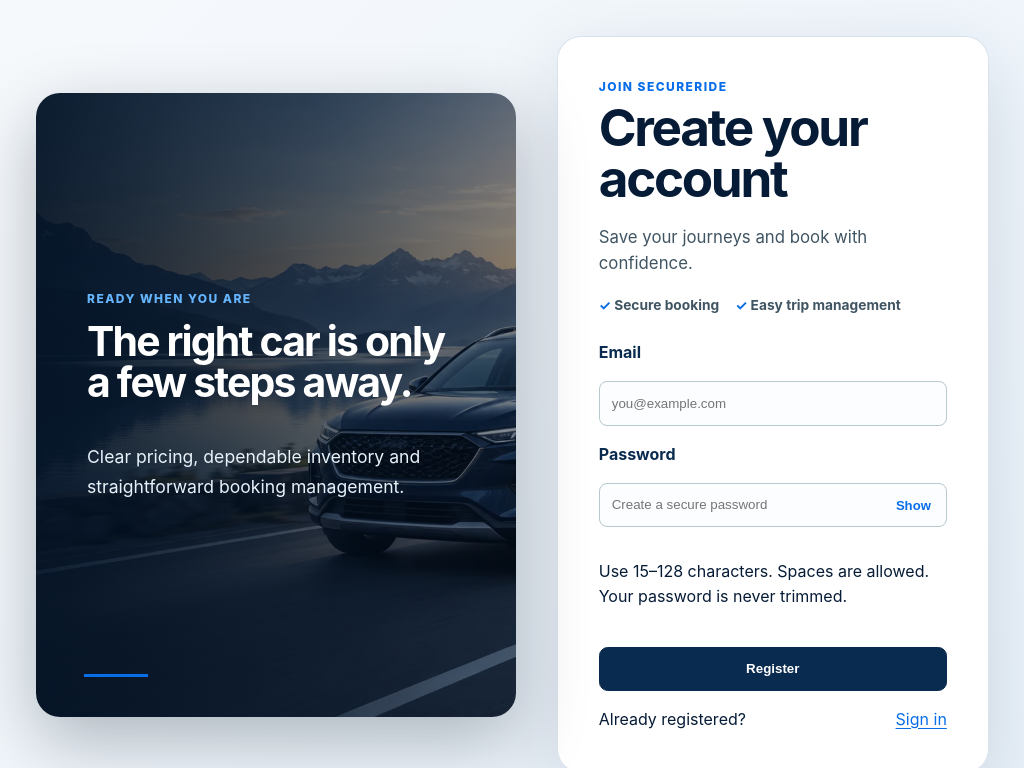
Scenario: minimal authentication pages › rejects short registration passwords accessibly
The image size is (1024, 768).
In the password field labelled "Password": (773, 505) left=599, top=482, right=947, bottom=527, type "short"
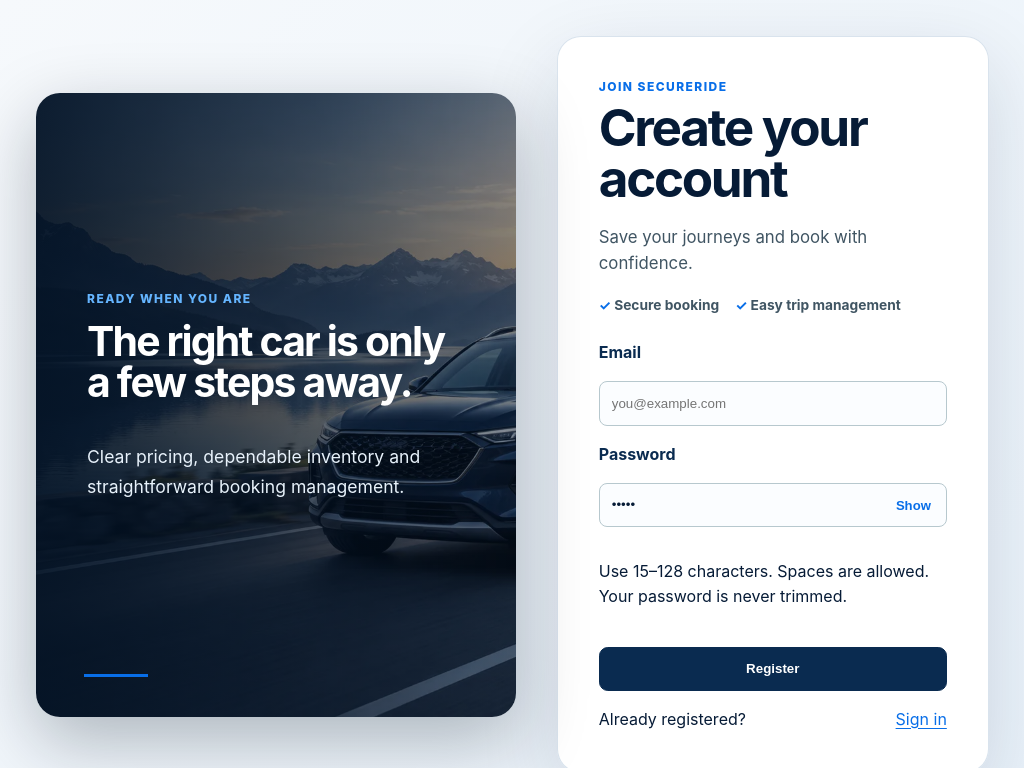
Submit the form named "Register", box left=599, top=340, right=947, bottom=691
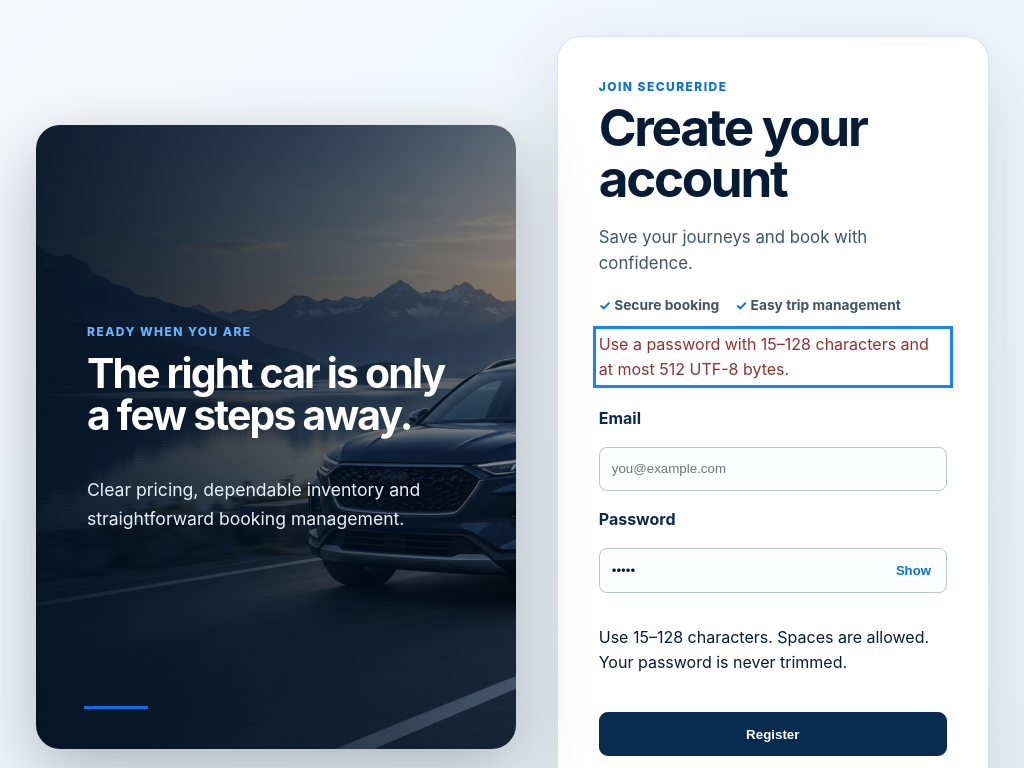
Check: the message shows "15–128", box left=599, top=334, right=929, bottom=379
